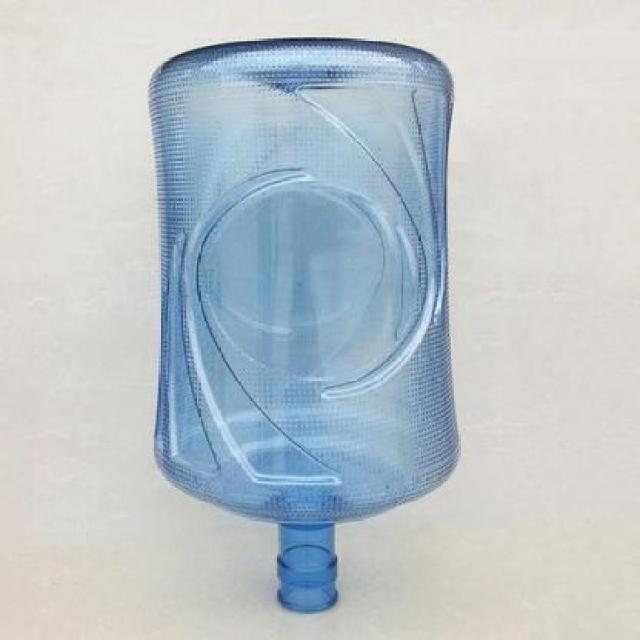coolerbottle: (140, 29, 464, 619)
